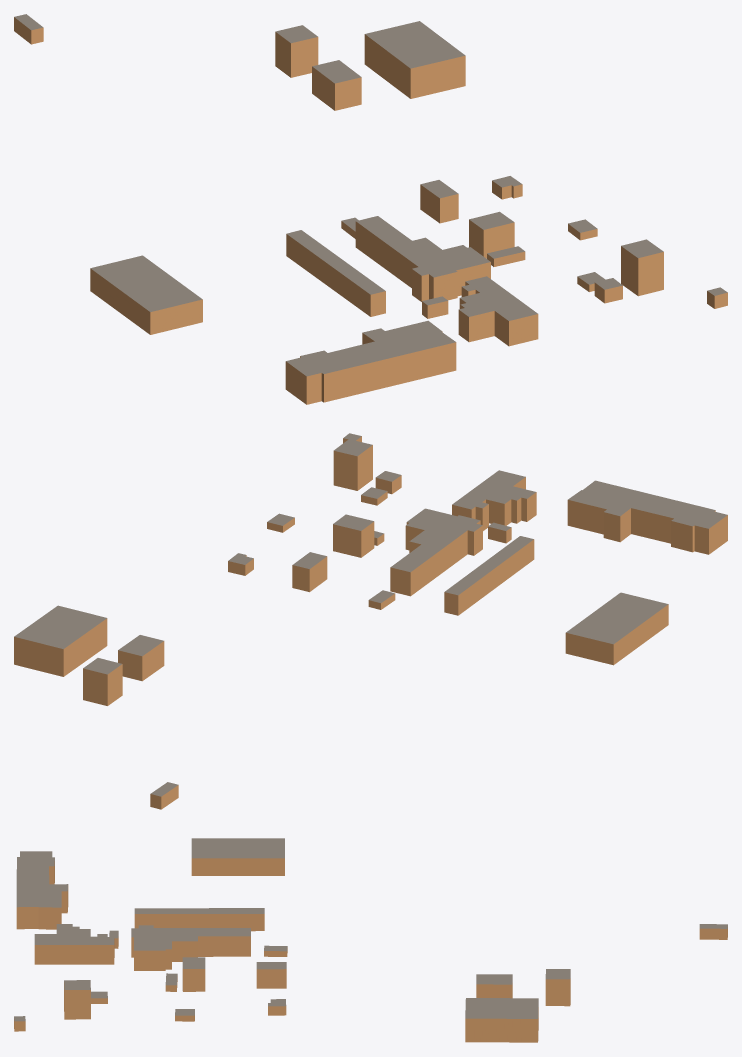
The model's file is fuel_yard_02.glb.
3 views of the same model, one above another, from view 1: azimuth 30°, elevation 25°; view 2: azimuth 150°, elevation 25°; view 3: azimuth 270°, elevation 25° (orthographic). The views are drawn at different scales.
Visible parts, largest first — view 1: Sacramento County Airport System Fire Department, element.012, element.004, element, element.016, element.008, element.018, element.002, element.001, element.007, element.010, element.003; view 2: Sacramento County Airport System Fire Department, element.012, element.004, element, element.016, element.008, element.018, element.002, element.001, element.007, element.010; view 3: element.012, element.004, Sacramento County Airport System Fire Department, element, element.016, element.008, element.018, element.001, element.002, element.007, element.010, element.003.
Boxes of the visible parts, bbox=[...] form: Sacramento County Airport System Fire Department: bbox=[285, 320, 456, 404]; element.012: bbox=[355, 216, 490, 301]; element.004: bbox=[90, 255, 202, 334]; element: bbox=[364, 21, 465, 98]; element.016: bbox=[458, 276, 538, 346]; element.008: bbox=[286, 230, 385, 316]; element.018: bbox=[621, 239, 663, 296]; element.002: bbox=[312, 60, 361, 110]; element.001: bbox=[275, 25, 318, 77]; element.007: bbox=[469, 211, 514, 258]; element.010: bbox=[420, 180, 458, 223]; element.003: bbox=[14, 14, 43, 44]; Sacramento County Airport System Fire Department: bbox=[567, 480, 727, 554]; element.012: bbox=[390, 508, 482, 596]; element.004: bbox=[565, 592, 668, 665]; element: bbox=[14, 605, 107, 676]; element.016: bbox=[452, 470, 536, 530]; element.008: bbox=[444, 536, 534, 615]; element.018: bbox=[333, 439, 372, 490]; element.002: bbox=[118, 635, 164, 681]; element.001: bbox=[83, 658, 122, 705]; element.007: bbox=[333, 514, 374, 557]; element.010: bbox=[292, 552, 327, 592]; element.012: bbox=[131, 925, 250, 970]; element.004: bbox=[191, 838, 284, 875]; Sacramento County Airport System Fire Department: bbox=[16, 851, 68, 929]; element: bbox=[465, 998, 538, 1042]; element.016: bbox=[34, 924, 114, 964]; element.008: bbox=[134, 908, 264, 931]; element.018: bbox=[64, 980, 90, 1019]; element.001: bbox=[545, 969, 570, 1006]; element.002: bbox=[476, 974, 512, 998]; element.007: bbox=[182, 957, 205, 991]; element.010: bbox=[256, 962, 286, 988]; element.003: bbox=[699, 924, 727, 939].
Bounding box in the file's own units: 291 × 21.47 × 471.
